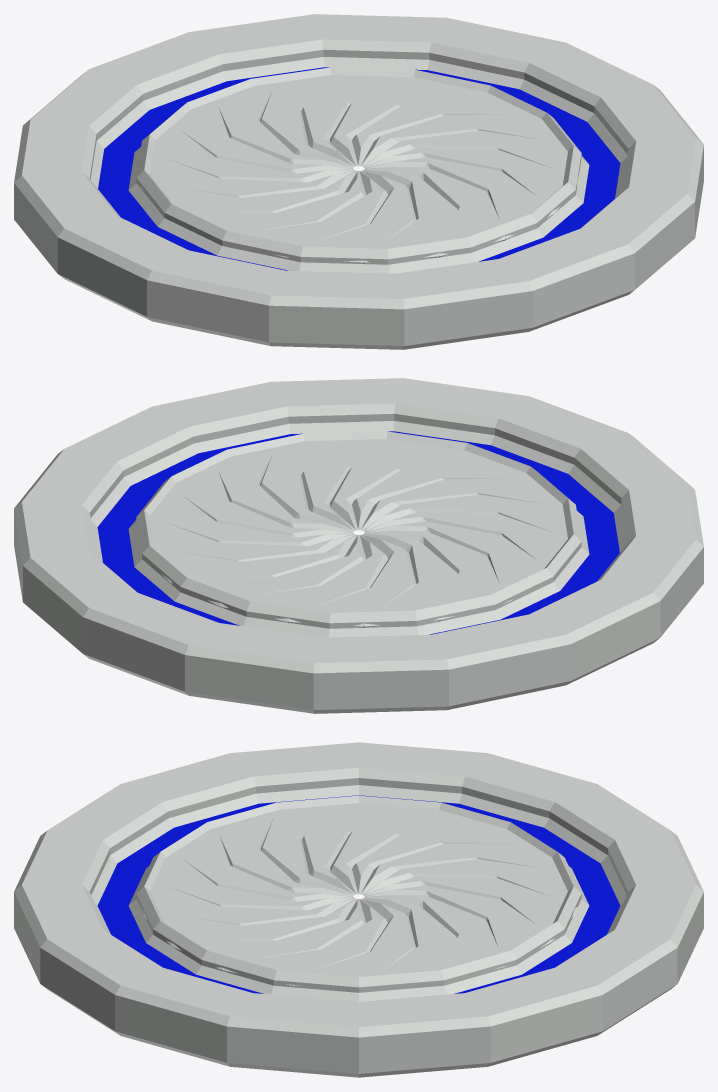
The model's file is CylinderOpening.fbx.
The picture shows the model from 3 angles, top to bottom: view 1: azimuth 30°, elevation 25°; view 2: azimuth 150°, elevation 25°; view 3: azimuth 270°, elevation 25°; orthographic projection.
Visible parts, largest first — view 1: DisqueOuverture, Cylinder.009, Cylinder.018, Cylinder.002, Cylinder.017, Cylinder.001, Cylinder.003, Cylinder.004, Cylinder.016, Cylinder.014, Cylinder.015, Cylinder.013 (+7 smaller); view 2: DisqueOuverture, Cylinder.006, Cylinder.005, Cylinder.004, Cylinder.008, Cylinder.007, Cylinder.010, Cylinder.003, Cylinder.011, Cylinder.002, Cylinder.001, Cylinder.009 (+7 smaller); view 3: DisqueOuverture, Cylinder.013, Cylinder.012, Cylinder.014, Cylinder.015, Cylinder.011, Cylinder.016, Cylinder.017, Cylinder.010, Cylinder.006, Cylinder.007, Cylinder.008 (+7 smaller).
Part boxes in pixels (x1=…): DisqueOuverture: x1=14, y1=14, x2=703, y2=349; Cylinder.009: x1=329, y1=78, x2=484, y2=166; Cylinder.018: x1=301, y1=75, x2=418, y2=166; Cylinder.002: x1=360, y1=114, x2=560, y2=166; Cylinder.017: x1=260, y1=75, x2=354, y2=167; Cylinder.001: x1=352, y1=92, x2=532, y2=166; Cylinder.003: x1=362, y1=130, x2=579, y2=182; Cylinder.004: x1=364, y1=148, x2=578, y2=213; Cylinder.016: x1=216, y1=83, x2=353, y2=168; Cylinder.014: x1=139, y1=125, x2=353, y2=182; Cylinder.015: x1=173, y1=100, x2=353, y2=173; Cylinder.013: x1=138, y1=154, x2=355, y2=197; DisqueOuverture: x1=14, y1=378, x2=703, y2=713; Cylinder.006: x1=329, y1=443, x2=481, y2=530; Cylinder.005: x1=301, y1=439, x2=415, y2=530; Cylinder.004: x1=260, y1=440, x2=354, y2=531; Cylinder.008: x1=360, y1=478, x2=562, y2=530; Cylinder.007: x1=352, y1=456, x2=532, y2=530; Cylinder.010: x1=362, y1=494, x2=567, y2=537; Cylinder.003: x1=216, y1=447, x2=353, y2=532; Cylinder.011: x1=364, y1=512, x2=567, y2=566; Cylinder.002: x1=172, y1=464, x2=353, y2=537; Cylinder.001: x1=150, y1=488, x2=353, y2=546; Cylinder.009: x1=140, y1=516, x2=355, y2=561; DisqueOuverture: x1=14, y1=742, x2=703, y2=1077; Cylinder.013: x1=330, y1=808, x2=479, y2=894; Cylinder.012: x1=302, y1=803, x2=416, y2=894; Cylinder.014: x1=352, y1=821, x2=528, y2=894; Cylinder.015: x1=360, y1=843, x2=574, y2=894; Cylinder.011: x1=261, y1=804, x2=354, y2=895; Cylinder.016: x1=362, y1=859, x2=577, y2=910; Cylinder.017: x1=364, y1=876, x2=576, y2=941; Cylinder.010: x1=216, y1=811, x2=353, y2=896; Cylinder.006: x1=140, y1=882, x2=355, y2=925; Cylinder.007: x1=141, y1=852, x2=353, y2=910; Cylinder.008: x1=174, y1=827, x2=352, y2=901.
Size of the model in its own units: 596 by 47.99 by 596.
